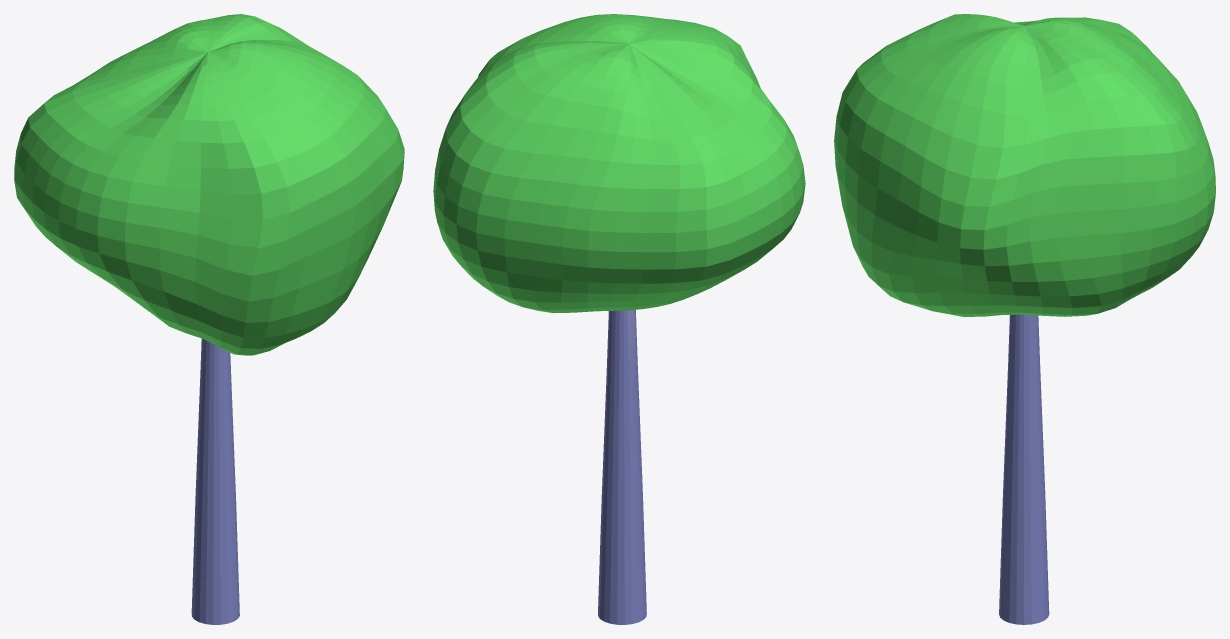
The model's file is 20210512_WGSRND_LEZ_Tree.fbx.
3 views of the same model, side by side, from view 1: azimuth 30°, elevation 25°; view 2: azimuth 150°, elevation 25°; view 3: azimuth 270°, elevation 25° (orthographic). The views are drawn at different scales.
Visible parts, largest first — view 1: TreeGreen; view 2: TreeGreen; view 3: TreeGreen.
Boxes of the visible parts, x1,y1,x2,y2 form: TreeGreen: (14, 14, 404, 624); TreeGreen: (433, 14, 805, 624); TreeGreen: (834, 14, 1215, 624).
Size of the model in its own units: 15.57 by 25.86 by 15.15.
